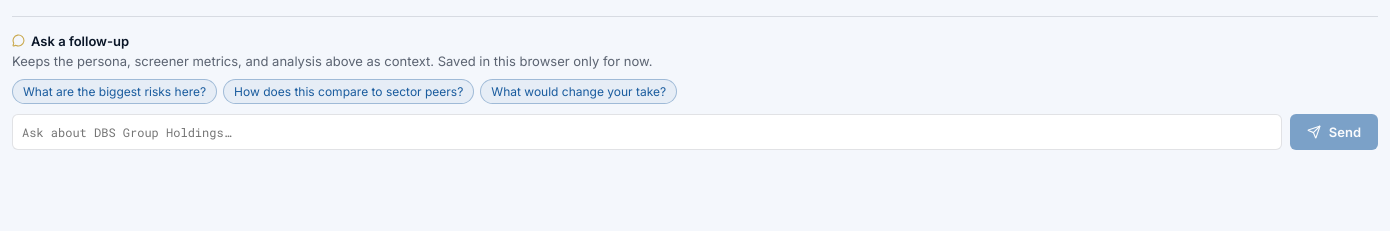
Test: AiChatBox › clicking a suggested prompt sends it and renders both bubbles on success
The width and height of the screenshot is (1390, 231).
Click the button "What are the biggest risks here?" at (115, 92), box left=12, top=79, right=217, bottom=104
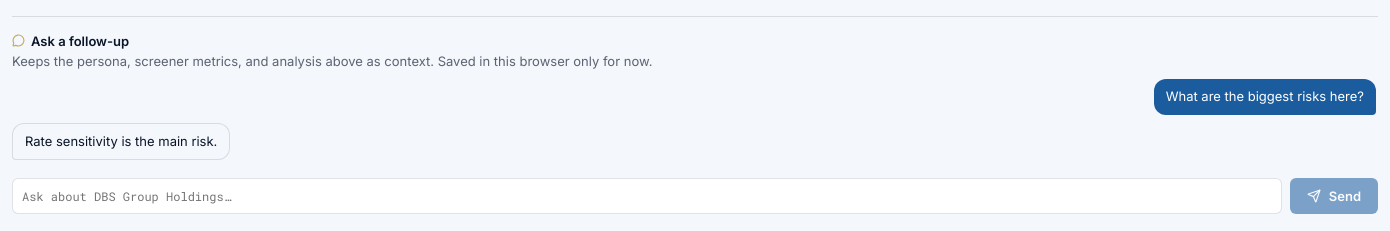
Expected: the text "What are the biggest risks here?" is shown, left=1154, top=79, right=1376, bottom=114
Expected: the text "Rate sensitivity is the main risk." is shown, left=12, top=122, right=230, bottom=160
